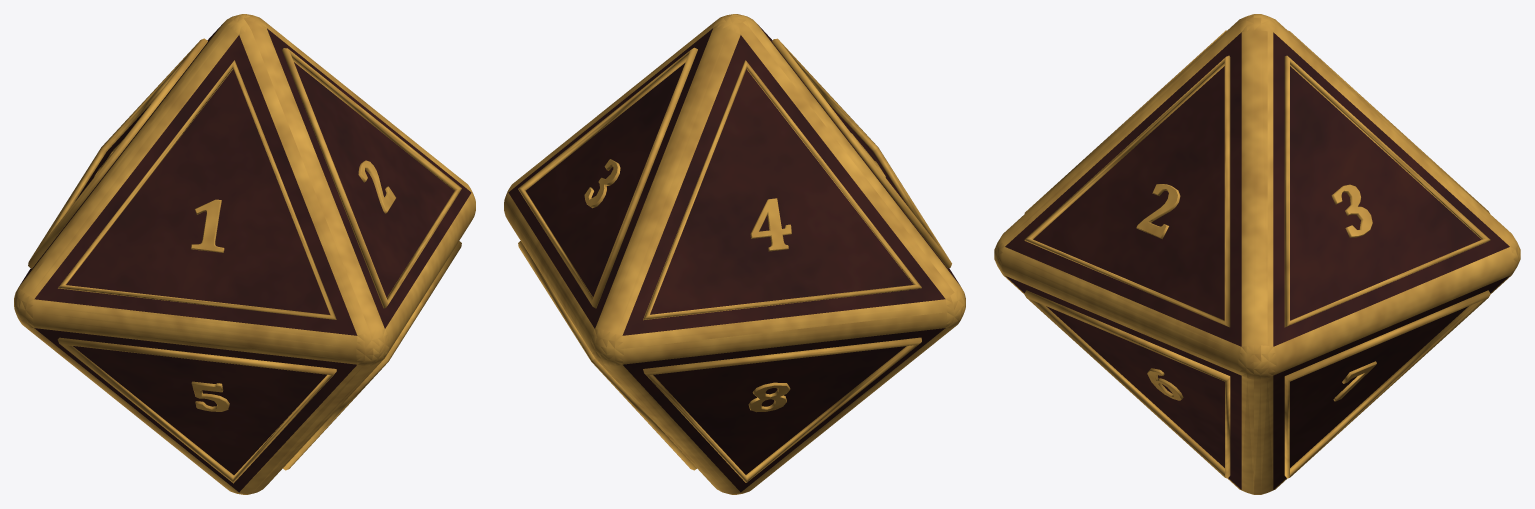
3 views of the same model, side by side, from view 1: azimuth 30°, elevation 25°; view 2: azimuth 150°, elevation 25°; view 3: azimuth 270°, elevation 25° (orthographic).
Parts seen in each view (by area): view 1: D8; view 2: D8; view 3: D8.
Part boxes in pixels (x1=…): D8: x1=14, y1=14, x2=475, y2=494; D8: x1=504, y1=14, x2=965, y2=494; D8: x1=994, y1=14, x2=1520, y2=494.
Size of the model in its own units: 1 by 1 by 1.
2 materials, 2 textured.
